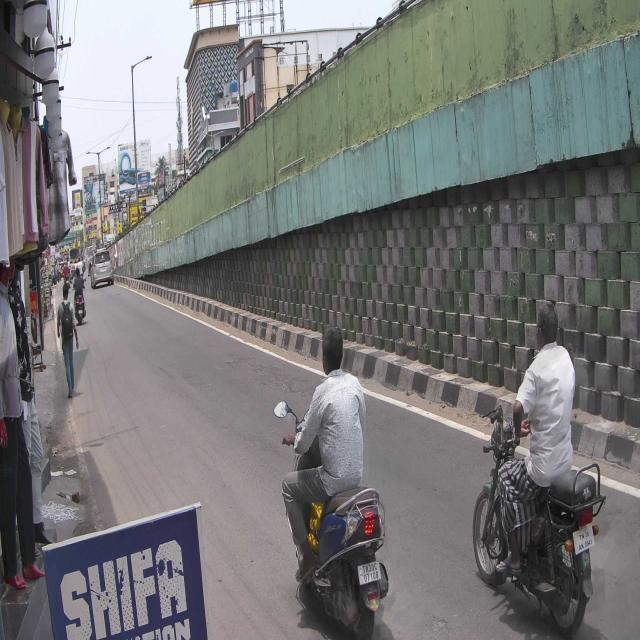single_rider: (472, 300, 606, 640), (277, 324, 391, 640)
